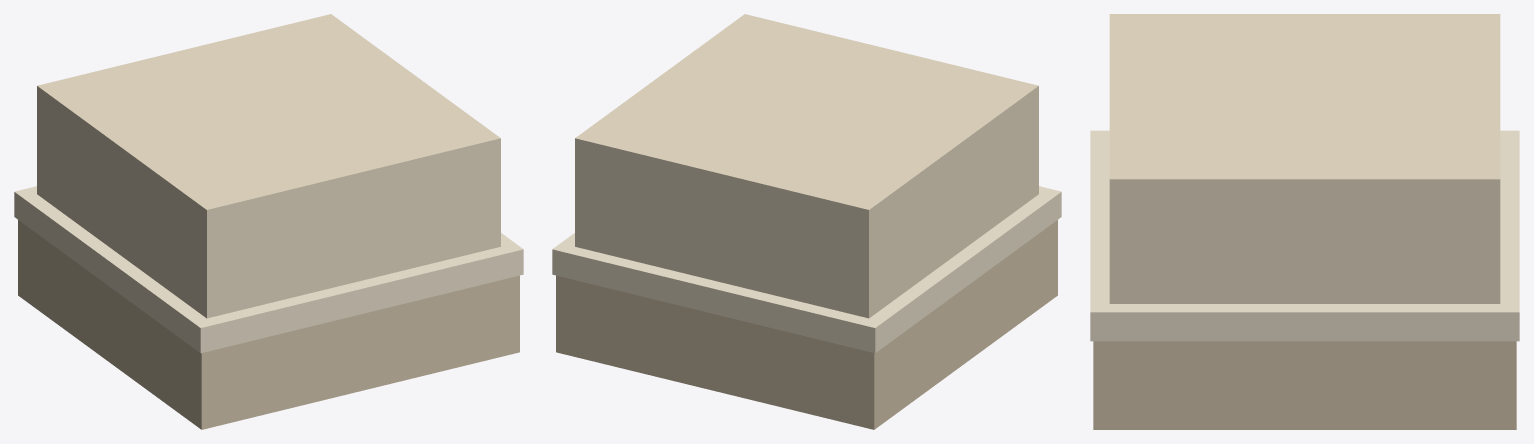
Rendered from sueter_manga_inf.glb.
3 renders of one model, left to right at view 1: azimuth 30°, elevation 25°; view 2: azimuth 150°, elevation 25°; view 3: azimuth 270°, elevation 25°, orthographic. The views are drawn at different scales.
Visible parts, largest first — view 1: sueter_manga_inf; view 2: sueter_manga_inf; view 3: sueter_manga_inf.
Boxes of the visible parts, x1,y1,x2,y2 form: sueter_manga_inf: (14, 14, 523, 429); sueter_manga_inf: (552, 14, 1061, 429); sueter_manga_inf: (1090, 14, 1519, 429).
Bounding box in the file's own units: 0.335 × 0.21 × 0.335.
